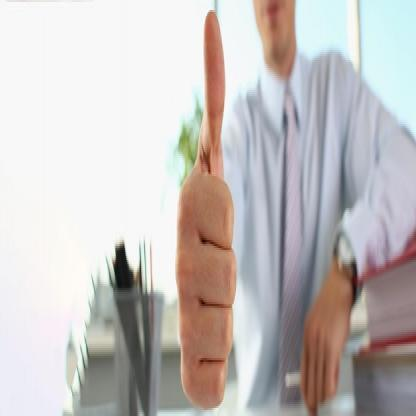thumb_up: (174, 8, 239, 412)
